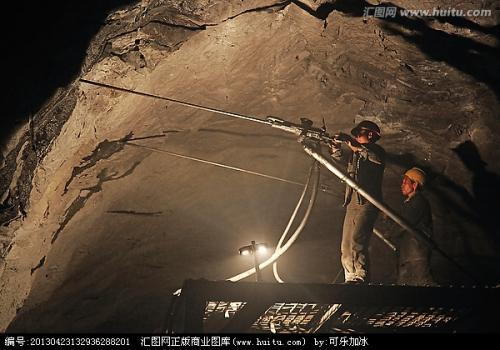helmet: (344, 117, 383, 148), (397, 167, 429, 200)
